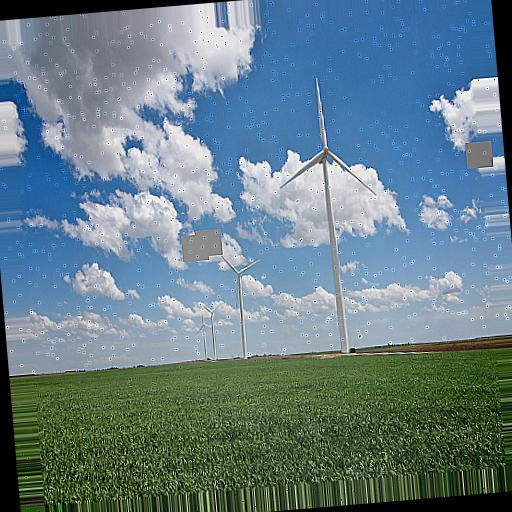wind turbine: (279, 76, 379, 354), (220, 253, 264, 360)
